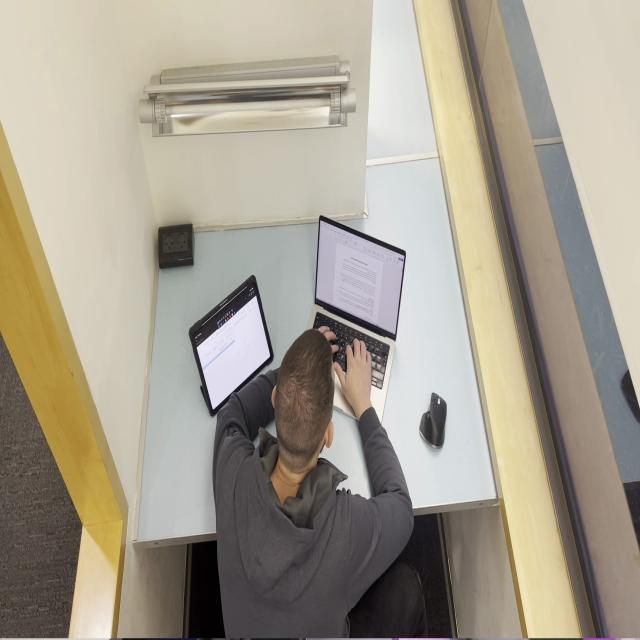bag: (188, 273, 274, 417)
ipad: (212, 326, 428, 639)
laptop: (306, 214, 406, 426)
mouse: (418, 392, 447, 449)
